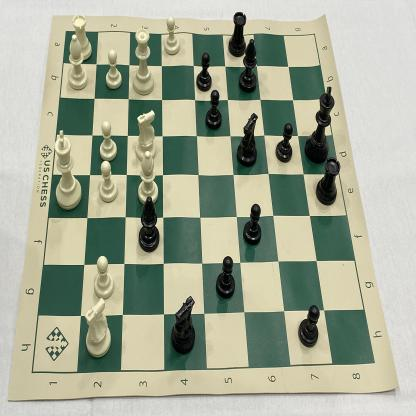black-bishop: (137, 195, 160, 254), (238, 36, 259, 97)
black-king: (303, 81, 337, 163)
black-knight: (170, 292, 197, 356), (236, 110, 260, 169)
black-pawn: (296, 302, 321, 350), (242, 200, 264, 248), (215, 254, 236, 301), (275, 119, 295, 165), (205, 88, 223, 132), (195, 51, 213, 93)
black-rook: (314, 155, 343, 208), (227, 8, 248, 59)
white-bishop: (64, 34, 91, 92), (138, 149, 159, 204)
white-king: (51, 128, 84, 211)
white-knight: (83, 294, 113, 359), (134, 107, 159, 163)
white-pawn: (96, 160, 121, 204), (92, 254, 115, 301), (97, 118, 119, 164), (104, 45, 125, 92), (162, 12, 182, 57)
white-queen: (131, 24, 157, 97)
white-rook: (70, 11, 95, 64)
